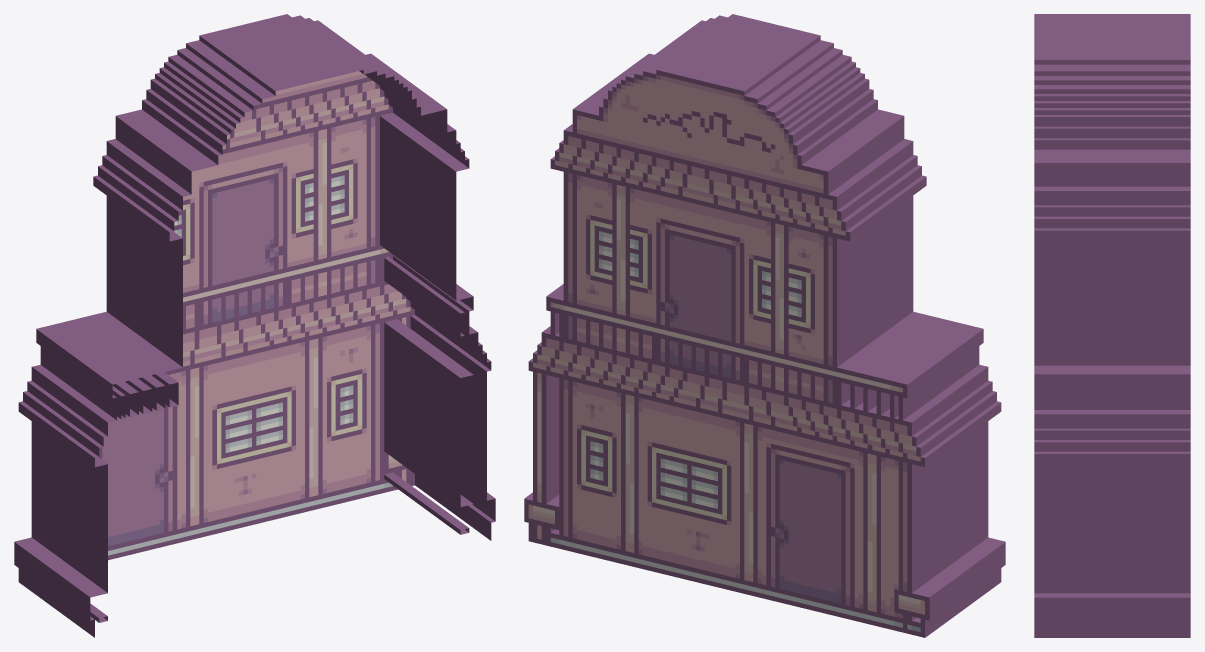
The model's file is Calico_Buildings_3.fbx.
3 views of the same model, side by side, from view 1: azimuth 30°, elevation 25°; view 2: azimuth 150°, elevation 25°; view 3: azimuth 270°, elevation 25° (orthographic). The views are drawn at different scales.
Parts seen in each view (by area): view 1: Calico_Building_3; view 2: Calico_Building_3; view 3: Calico_Building_3.
Boxes of the visible parts, x1,y1,x2,y2 form: Calico_Building_3: [14, 14, 495, 637]; Calico_Building_3: [524, 14, 1005, 637]; Calico_Building_3: [1034, 14, 1190, 637].
Size of the model in its own units: 188 by 575 by 681.
